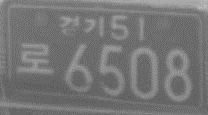0: (128, 47, 160, 101)
1: (133, 15, 150, 43)
5: (97, 42, 126, 98), (109, 14, 129, 41)
6: (63, 42, 93, 95)
8: (162, 47, 193, 103)
경기_O: (59, 15, 105, 39)
로: (14, 41, 56, 77)
